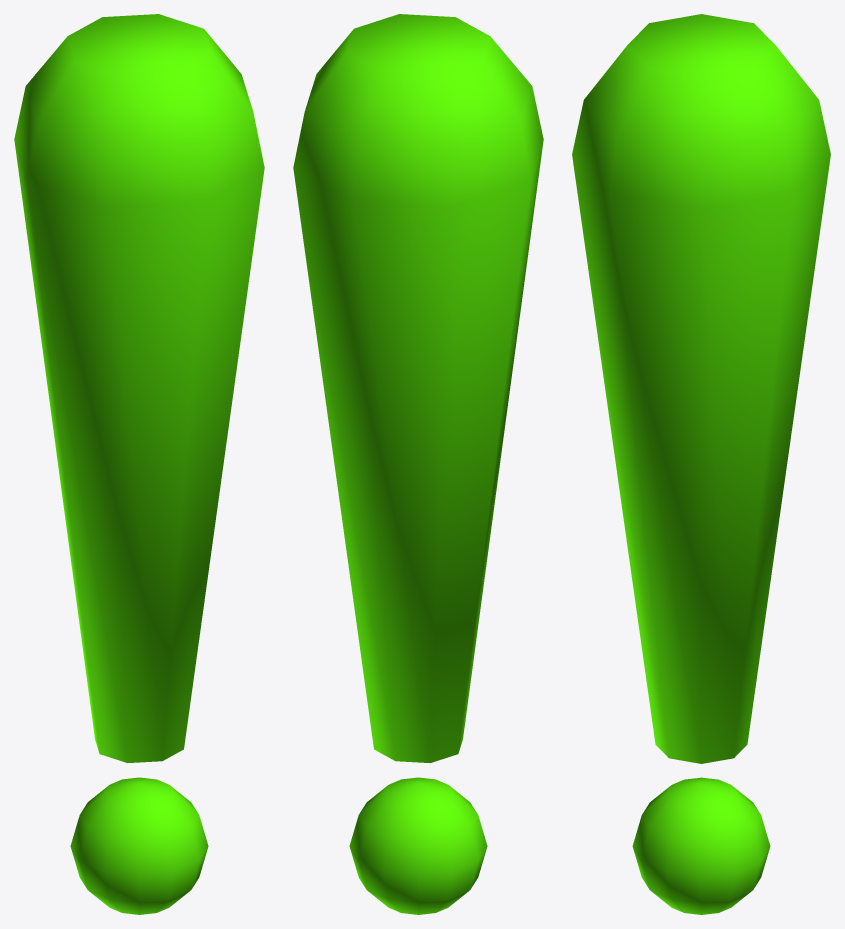
File: PTK_Exclamation_green.fbx
3 renders of one model, left to right at view 1: azimuth 30°, elevation 25°; view 2: azimuth 150°, elevation 25°; view 3: azimuth 270°, elevation 25°, orthographic.
Parts seen in each view (by area): view 1: PTK_Exclamation_green; view 2: PTK_Exclamation_green; view 3: PTK_Exclamation_green.
Part boxes in pixels (<box>): PTK_Exclamation_green: <box>14,14,264,914</box>; PTK_Exclamation_green: <box>293,14,543,914</box>; PTK_Exclamation_green: <box>572,14,830,914</box>.
Size of the model in its own units: 11.45 by 42.12 by 11.45.
